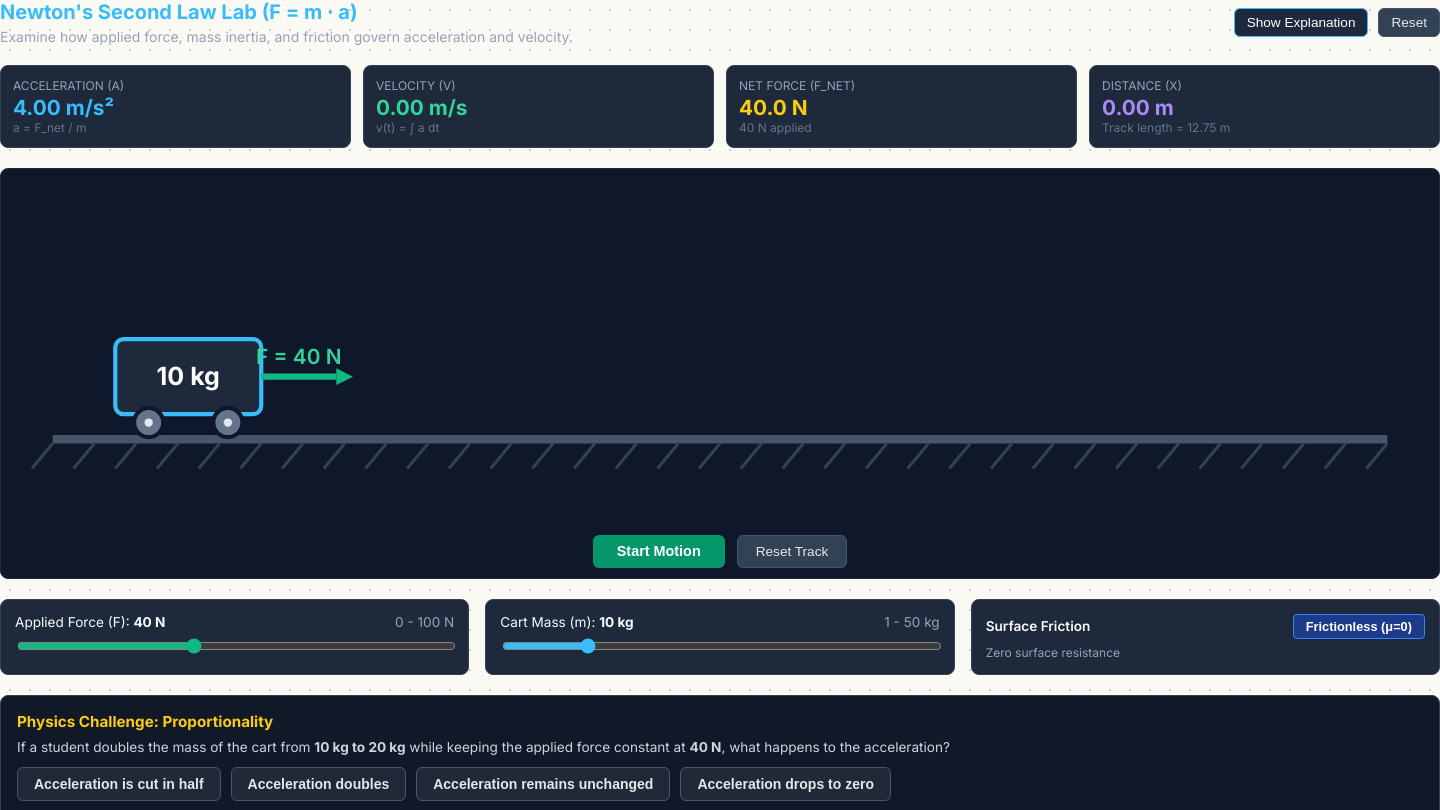
Test: Interactive Learning Lab (What-If Lab) › NewtonLab computes acceleration a = F/m and handles friction toggle
Check: the heading "Newton's Second Law Lab (F = m · a)" is shown, box [0,0,358,24]
Check: the text "Acceleration (a)" is shown, box [13,78,124,93]
// Friction toggle
Click the button "Frictionless (μ=0)" at (1359, 626), box [1293,614,1425,639]
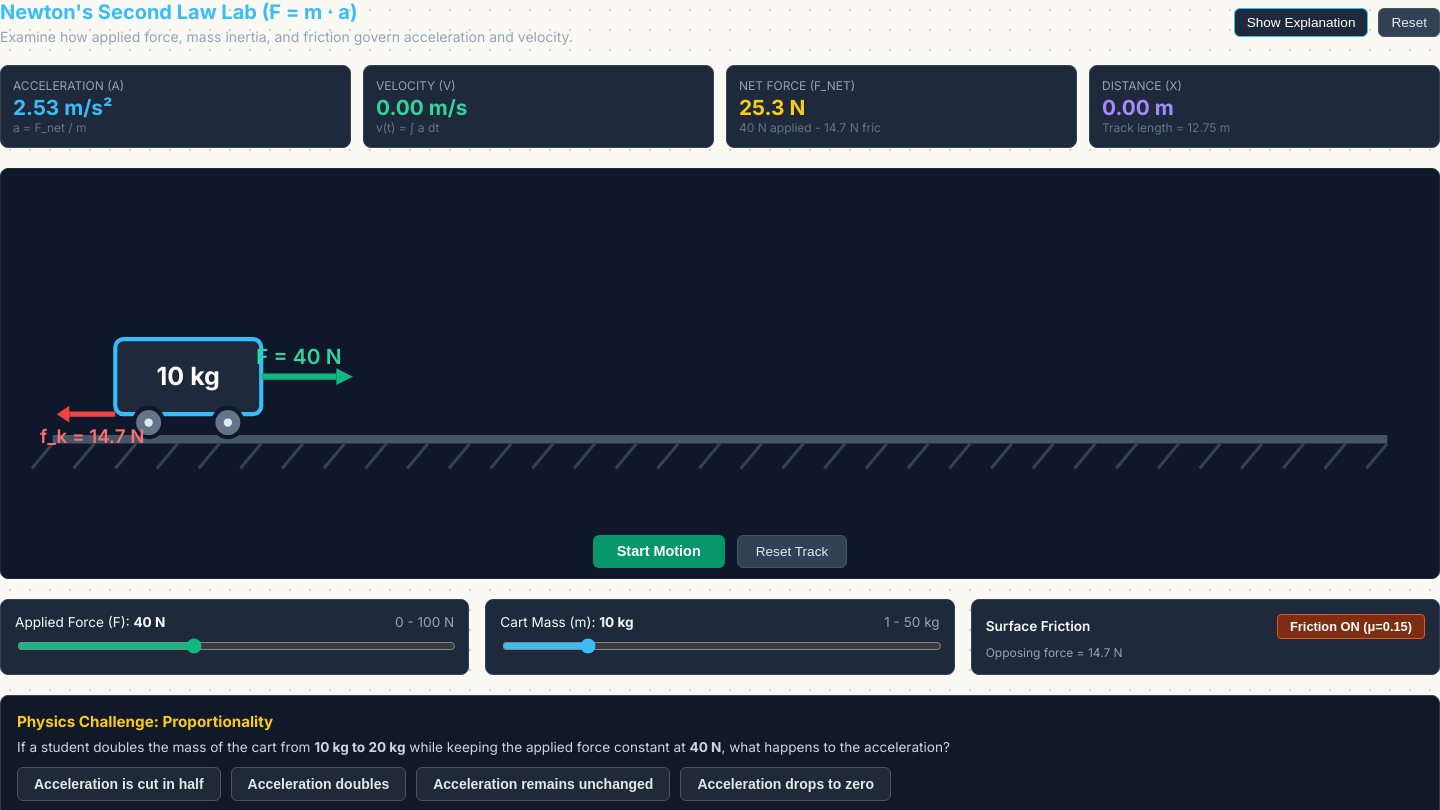
Check: the button "Friction ON (μ=0.15)" is shown, box [1277,614,1425,639]
// Challenge check
Click the button "Acceleration is cut in half" at (119, 784), box [17,767,221,801]
(page scrolled)
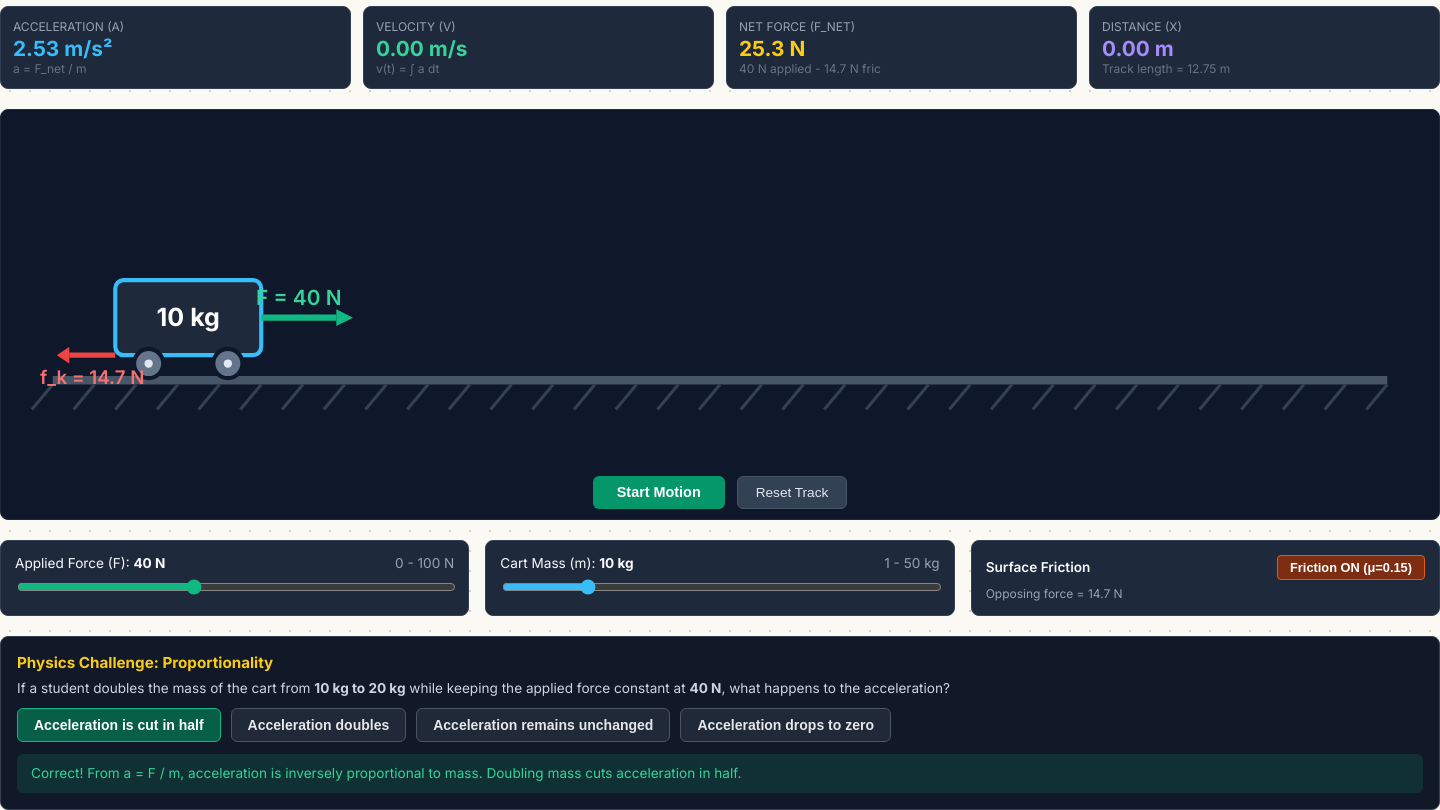
Check: the text "Correct! From a = F / m" is shown, box [31,765,741,781]
